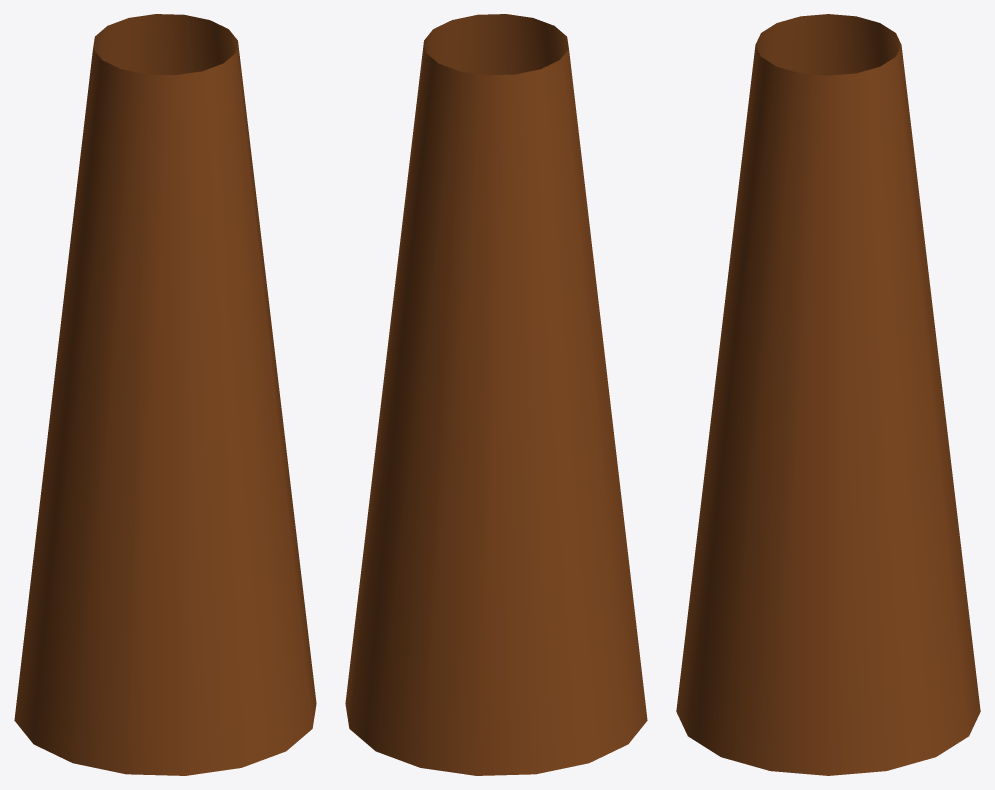
The model's file is lightCone.glb.
The picture shows the model from 3 angles, left to right: view 1: azimuth 30°, elevation 25°; view 2: azimuth 150°, elevation 25°; view 3: azimuth 270°, elevation 25°; orthographic projection.
Parts seen in each view (by area): view 1: Cylinder.002; view 2: Cylinder.002; view 3: Cylinder.002.
Part boxes in pixels (x1,y1,x2,y2): Cylinder.002: [14, 14, 316, 775]; Cylinder.002: [345, 14, 647, 775]; Cylinder.002: [676, 14, 980, 775].
Bounding box in the file's own units: 2.93 × 7.07 × 2.93.
